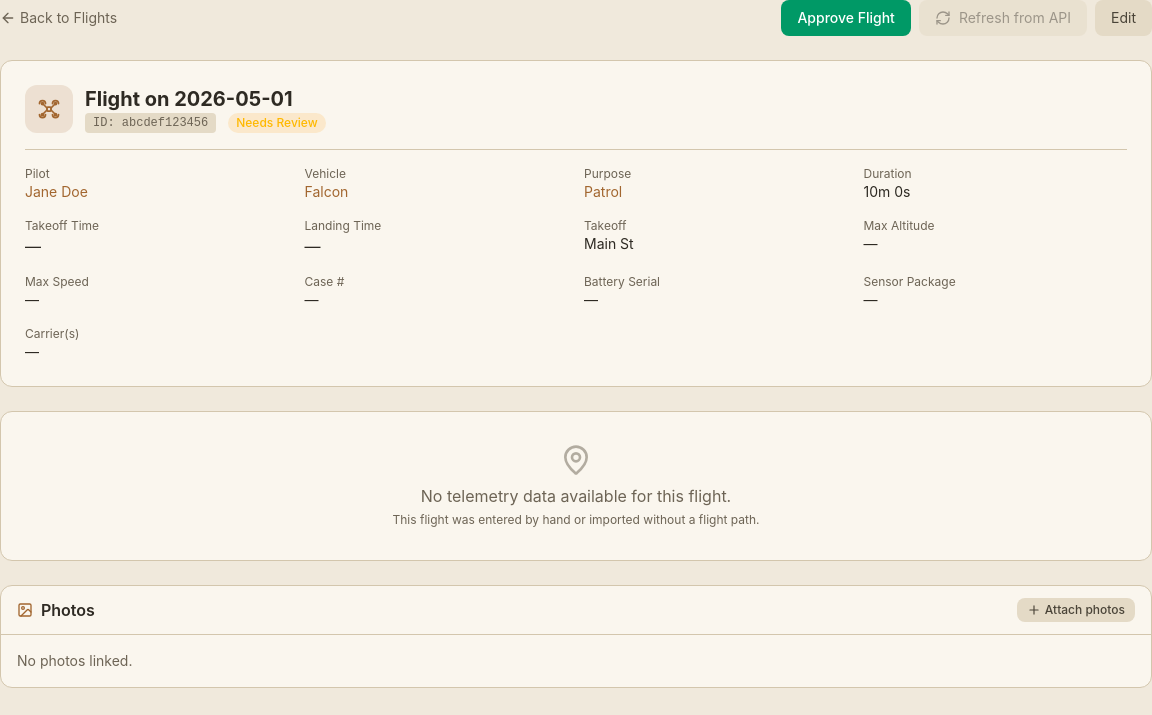
Test: FlightDetailPage › opens the edit form and PATCHes /flights/:id on save (admin)
Expected: the heading "Flight on 2026-05-01" is shown, top-left (85, 85), bottom-right (326, 113)
Click the button "Edit": [1124, 18] box top-left (1095, 0), bottom-right (1151, 36)
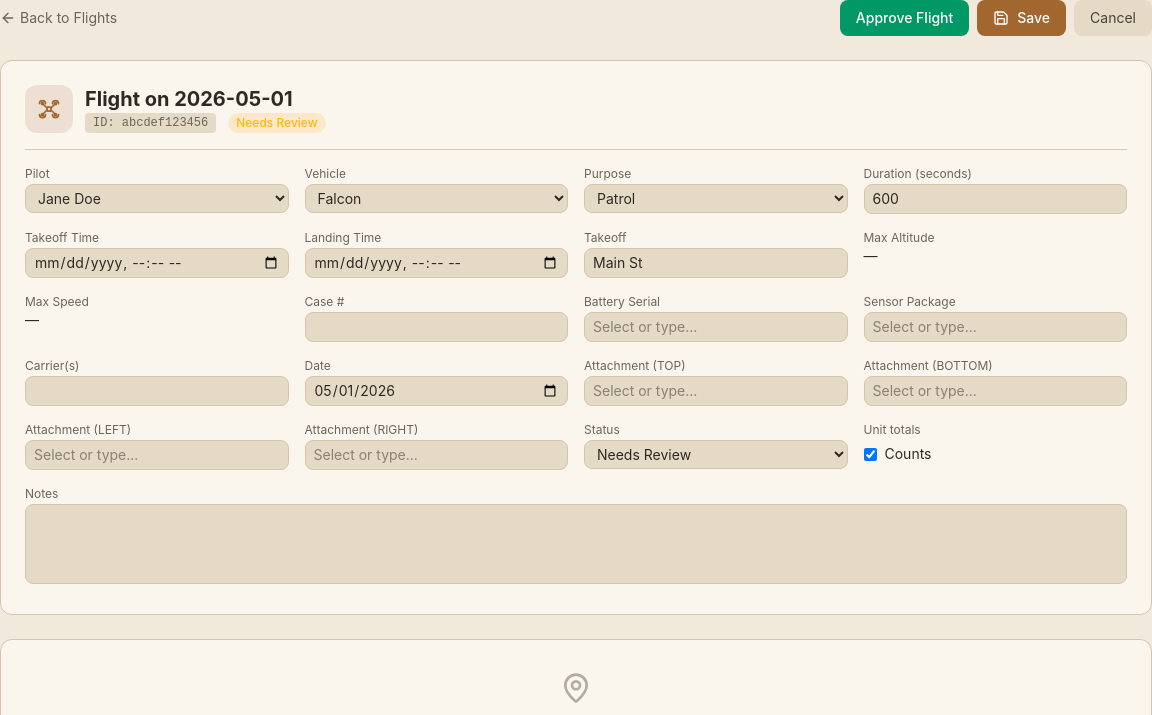
Click the button "Save": [1022, 18] box top-left (977, 0), bottom-right (1066, 36)
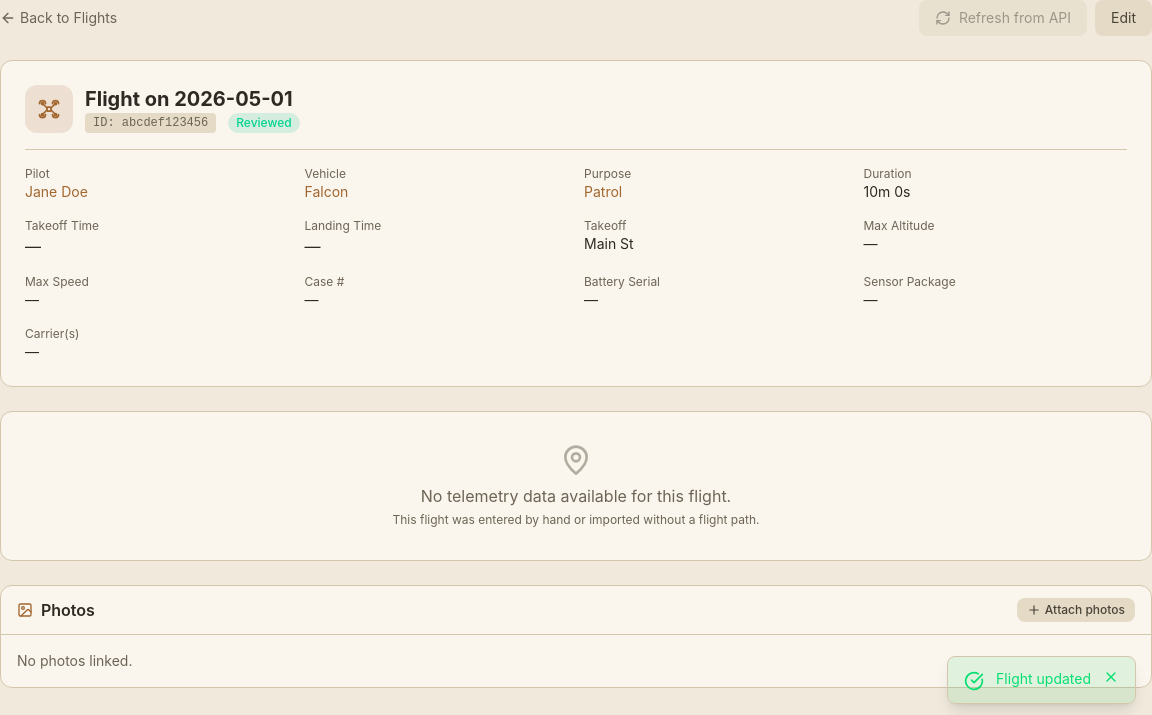
Result: the link "Patrol" is shown at top-left (584, 183), bottom-right (622, 200)
